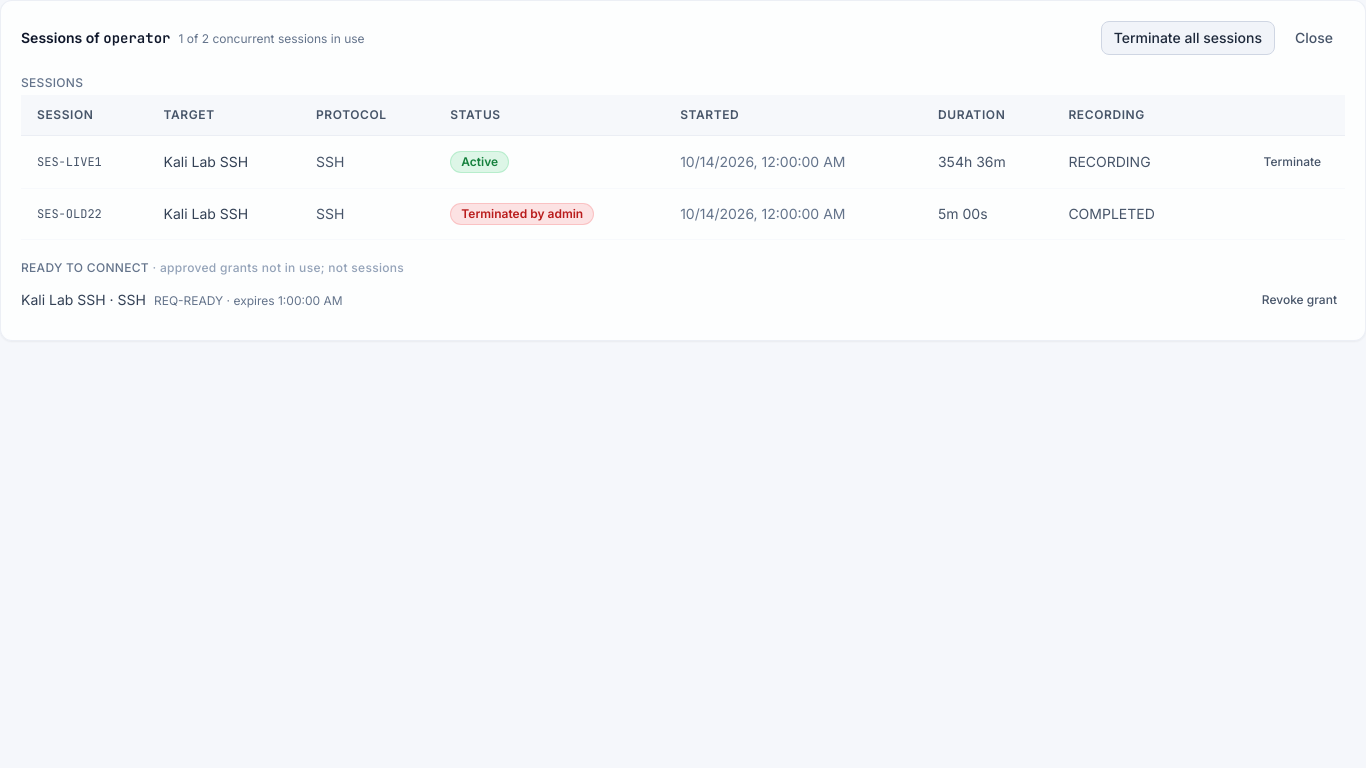
Scenario: UserSessionsPanel › shows the server error when an action is refused
Click the button "Terminate".
click(1292, 162)  # box [1256,150,1329,174]
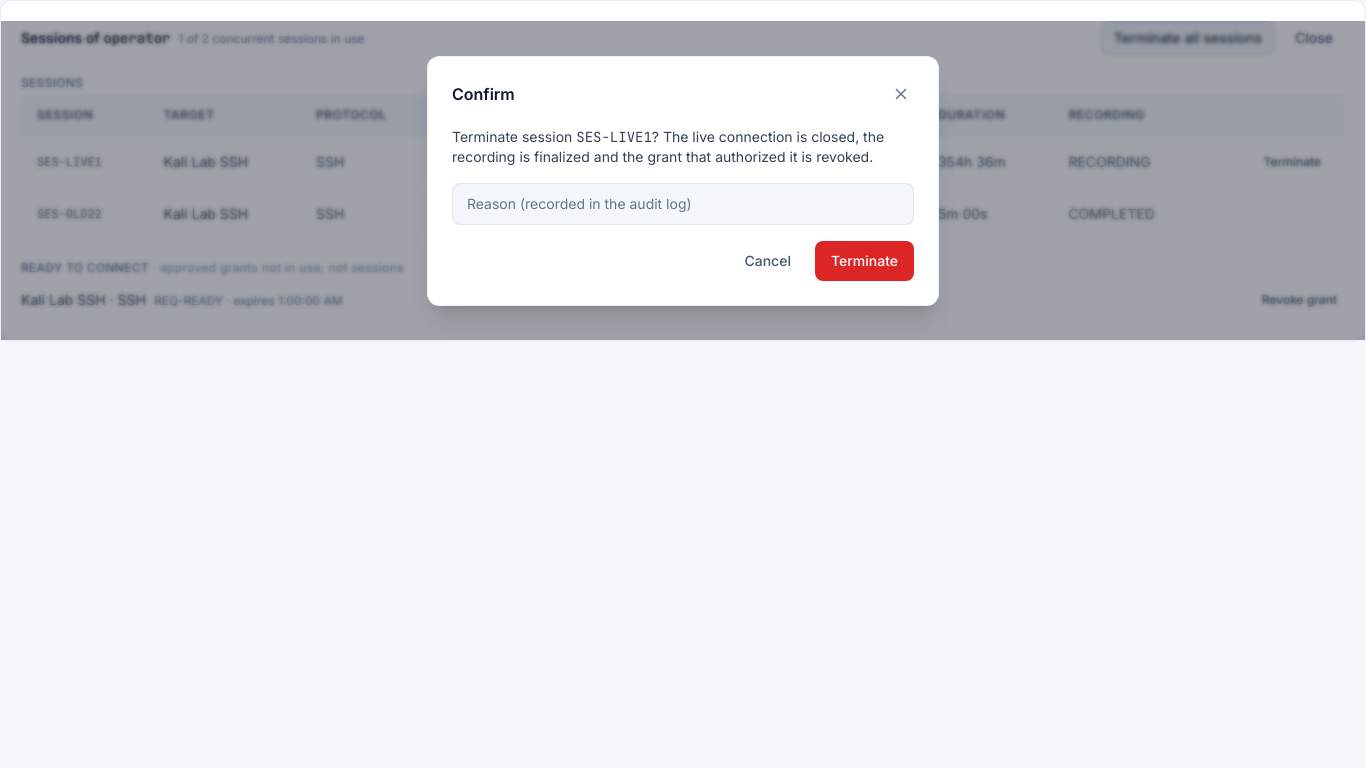
Click the button "Terminate".
click(864, 260)  # box [815,240,914,280]
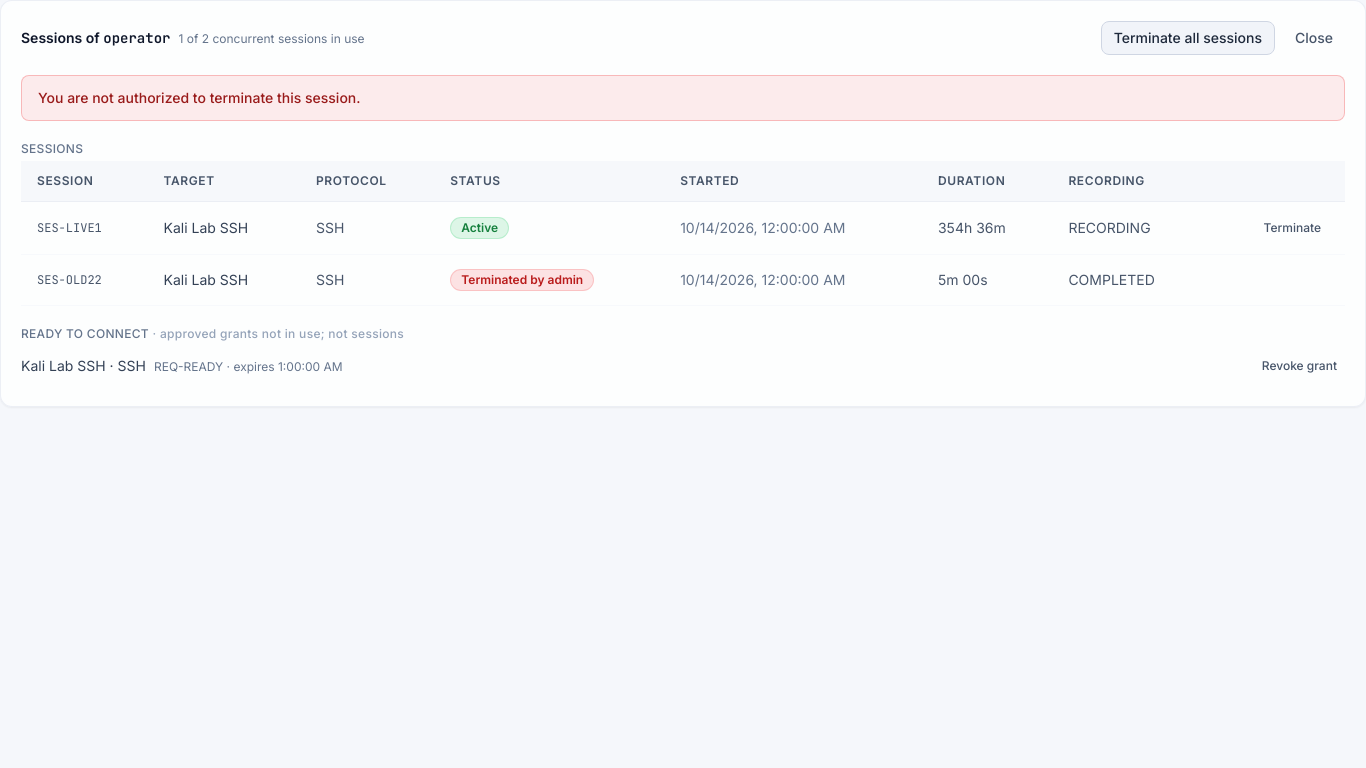
Result: the text "You are not authorized to terminate this session." is shown at [38,89,360,106]
